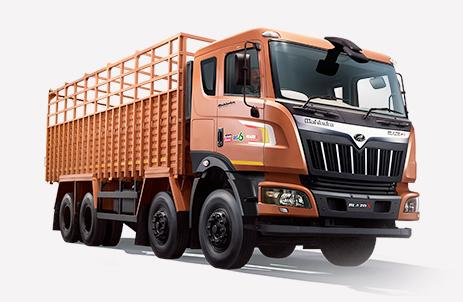truck: (45, 27, 420, 269)
